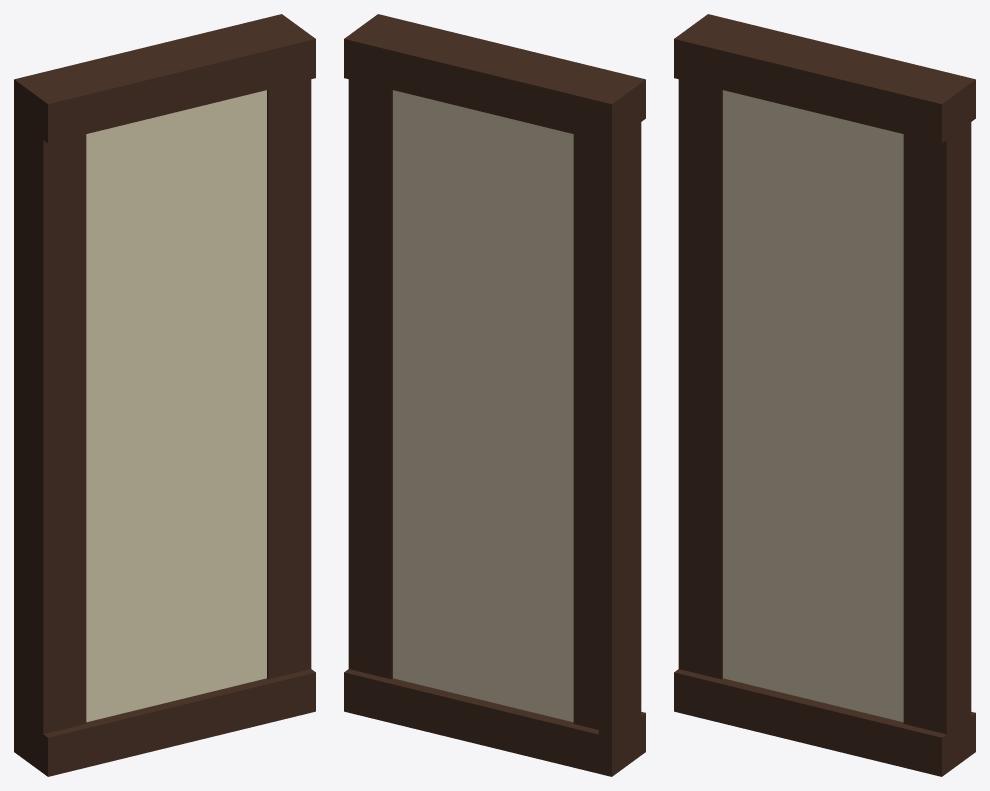
File: 801_half_bay_rebated_plaster_blank.fbx
3 renders of one model, left to right at view 1: azimuth 30°, elevation 25°; view 2: azimuth 150°, elevation 25°; view 3: azimuth 330°, elevation 25°, orthographic.
Visible parts, largest first — view 1: 801_half_bay_rebated_plaster_blank; view 2: 801_half_bay_rebated_plaster_blank; view 3: 801_half_bay_rebated_plaster_blank.
Boxes of the visible parts, x1,y1,x2,y2 form: 801_half_bay_rebated_plaster_blank: [14, 14, 315, 776]; 801_half_bay_rebated_plaster_blank: [344, 14, 645, 776]; 801_half_bay_rebated_plaster_blank: [674, 14, 975, 776].
Bounding box in the file's own units: 1 × 2.4 × 0.22.
1 material, 1 textured.
